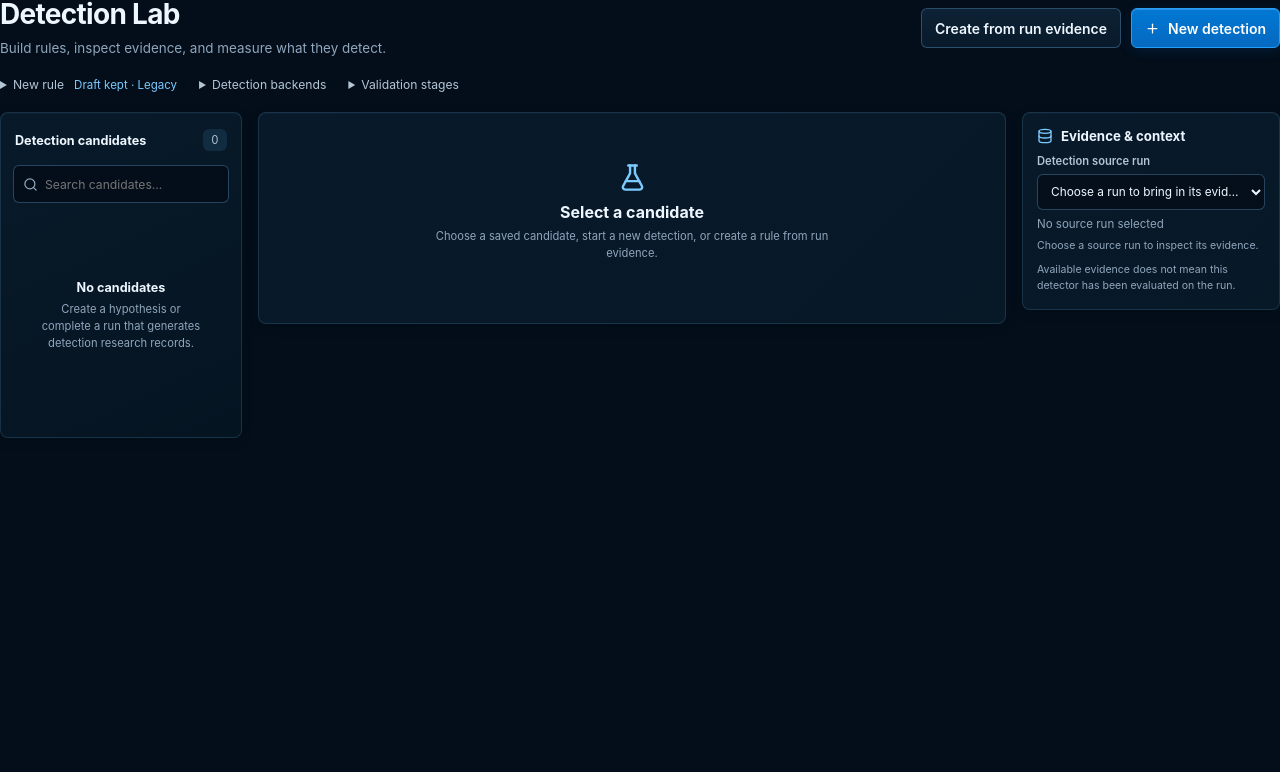
it: restores legacy world_writable inputs and applies their exact permission selection
The image size is (1280, 772).
Click the button "New detection" at (1206, 28), box [1131,8,1279,48]
(page scrolled)
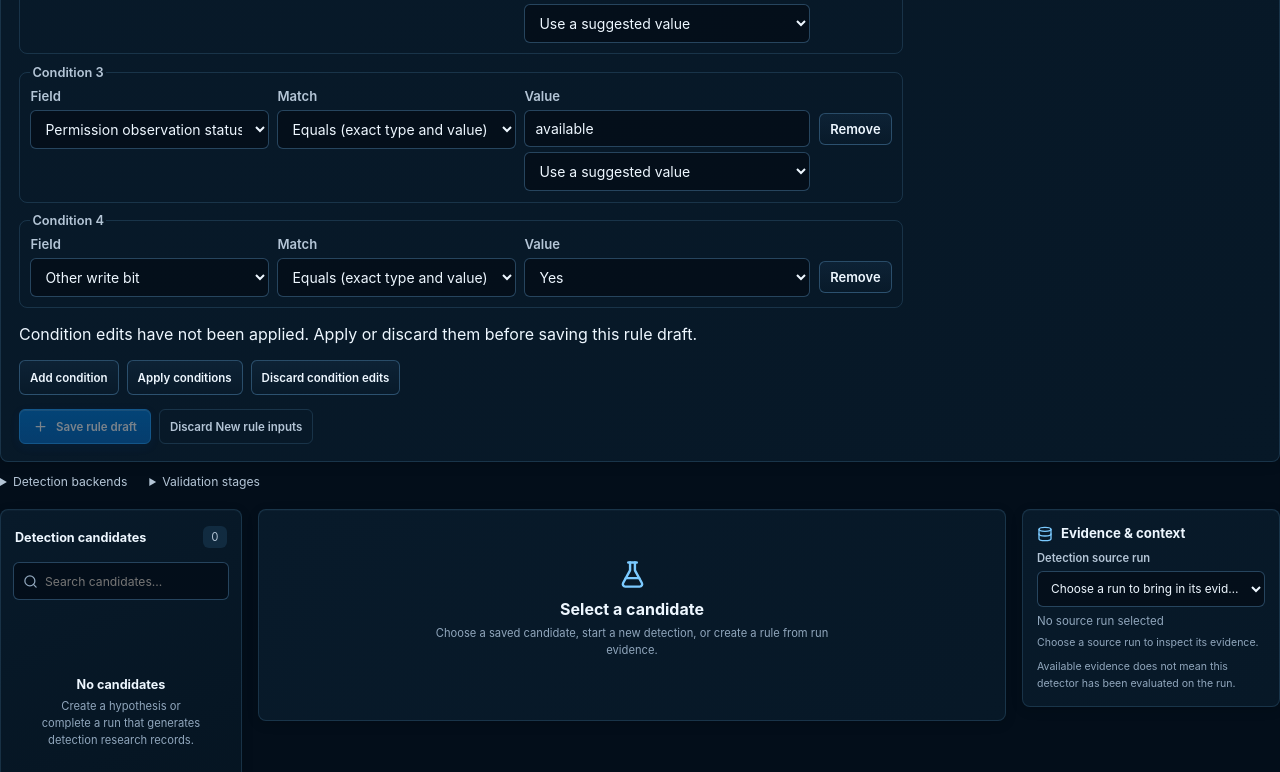
Check: the dropdown named "Value for condition 4" shows "Yes", box [524,258,810,297]
Check: the button "Save rule draft" is disabled, box [19,409,151,444]
Click the button "Apply conditions" at (185, 378), box [127,360,243,395]
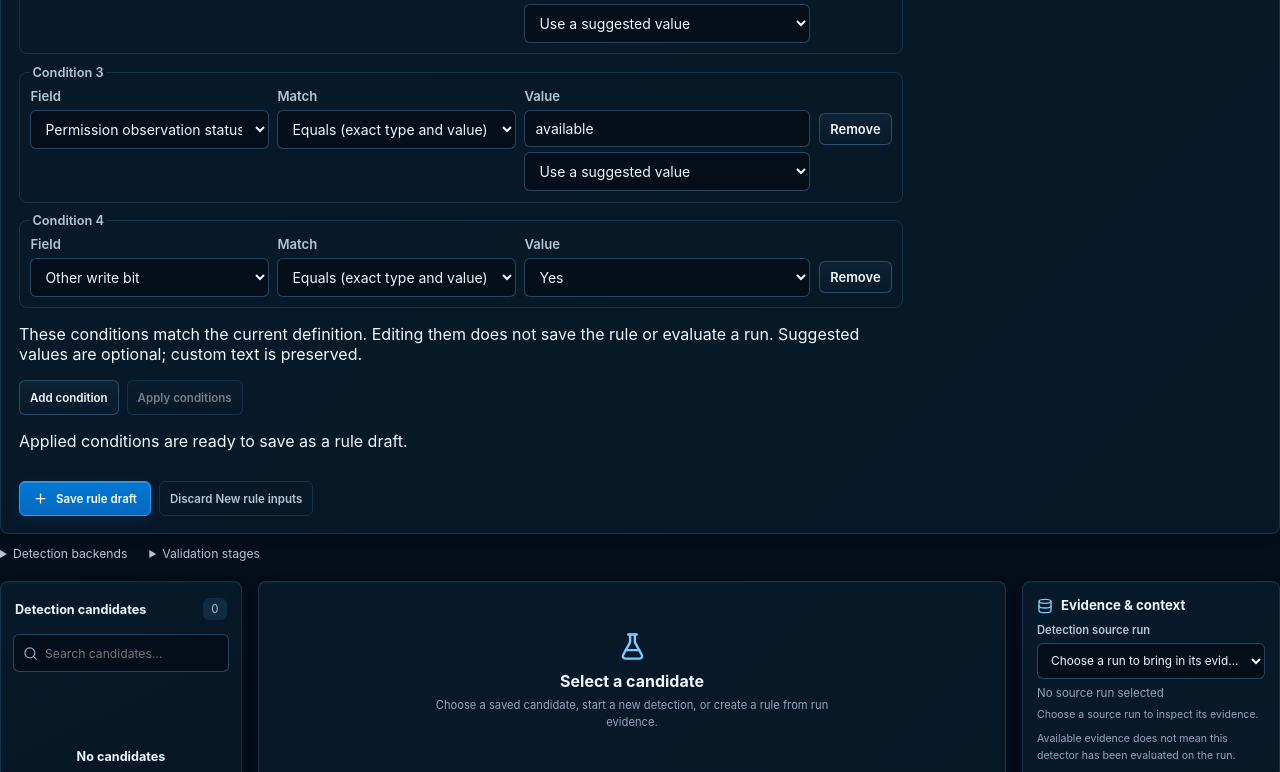
Click the button "Save rule draft" at (85, 499), box [19,481,151,516]
(page scrolled)
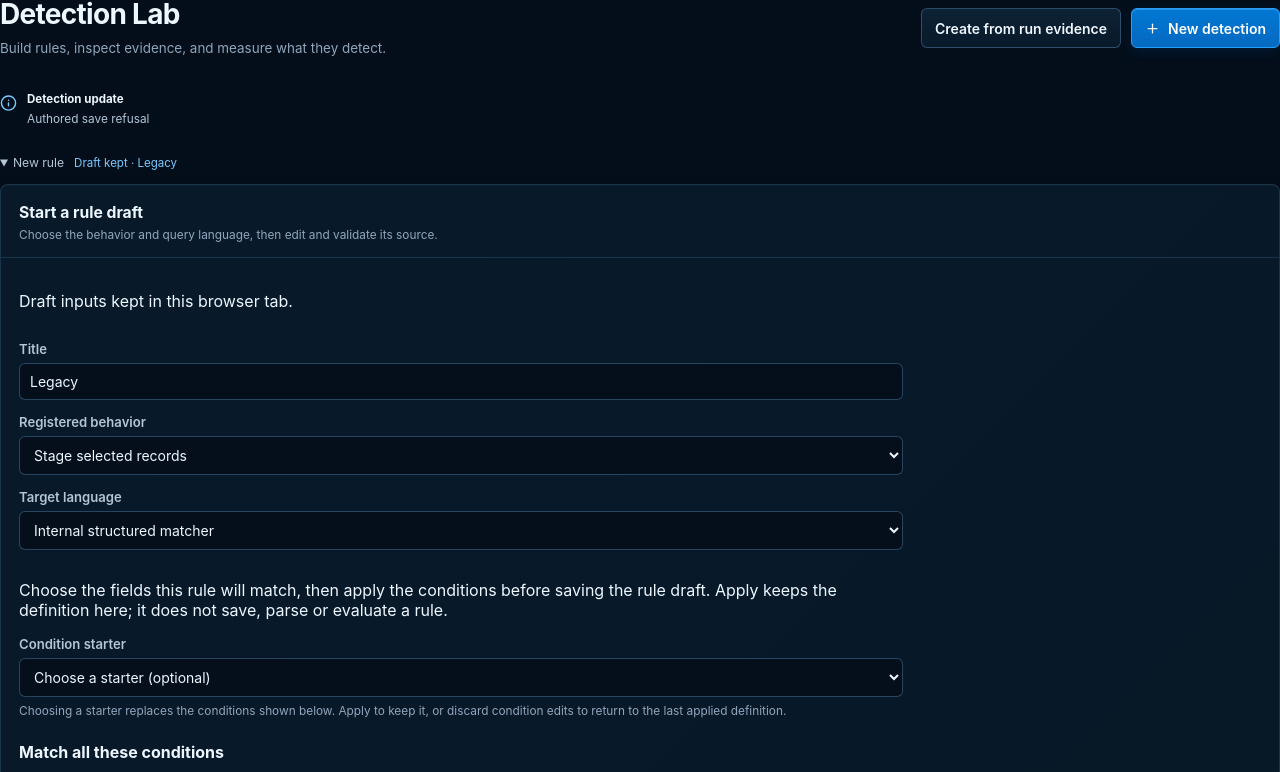
Check: the text "Authored save refusal" is shown, box [27,112,150,126]
